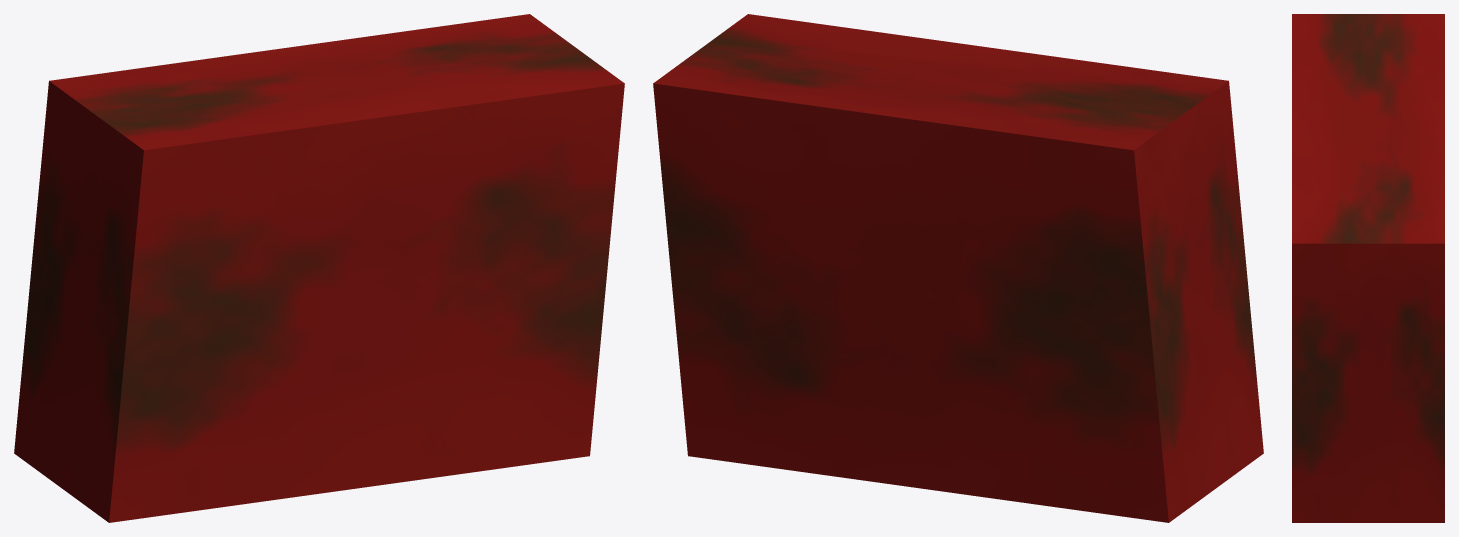
Rendered from puddle_L0.glb.
3 views of the same model, side by side, from view 1: azimuth 30°, elevation 25°; view 2: azimuth 150°, elevation 25°; view 3: azimuth 270°, elevation 25° (orthographic). The views are drawn at different scales.
Visible parts, largest first — view 1: jerrycan; view 2: jerrycan; view 3: jerrycan.
Part boxes in pixels (x1,y1,x2,y2): jerrycan: [14, 14, 624, 522]; jerrycan: [653, 14, 1263, 522]; jerrycan: [1292, 14, 1444, 522].
Size of what is drawn, in the model's own units: 0.5016 by 0.3852 by 0.16.
1 material, 1 textured.
